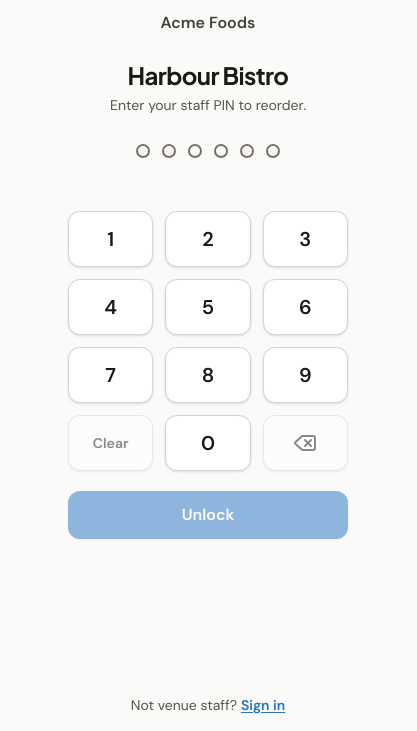
Test: QrEntryScreen — the PIN › says to ask a manager when the code is locked for good
The width and height of the screenshot is (417, 731).
Expected: the heading "Harbour Bistro" is shown, [128,59,288,91]
Step 1. Click the button "1" → (111, 239), box [68,211,153,267]
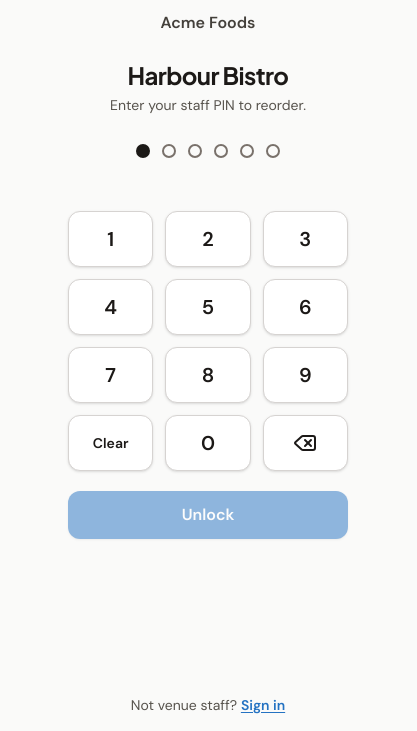
Step 2. Click the button "3" → (305, 239), box [263,211,348,267]
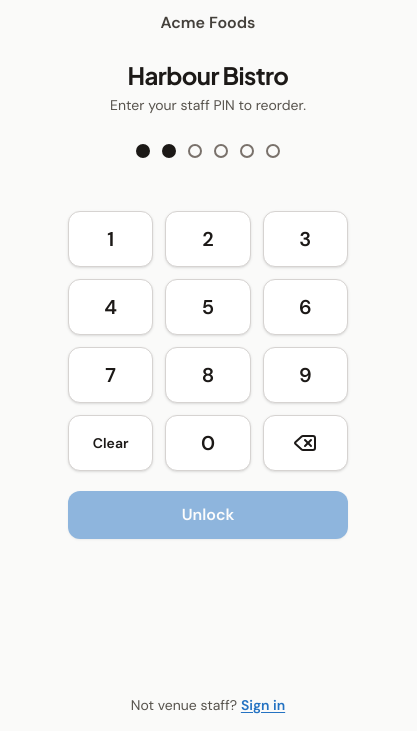
Step 3. Click the button "5" → (208, 307), box [165,279,251,335]
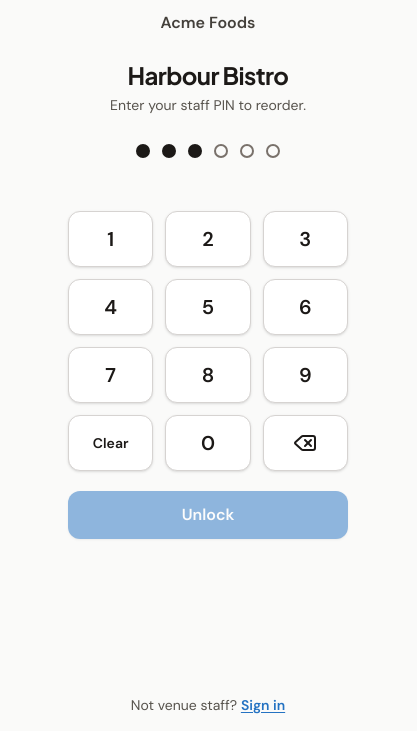
Step 4. Click the button "7" → (111, 375), box [68,347,153,403]
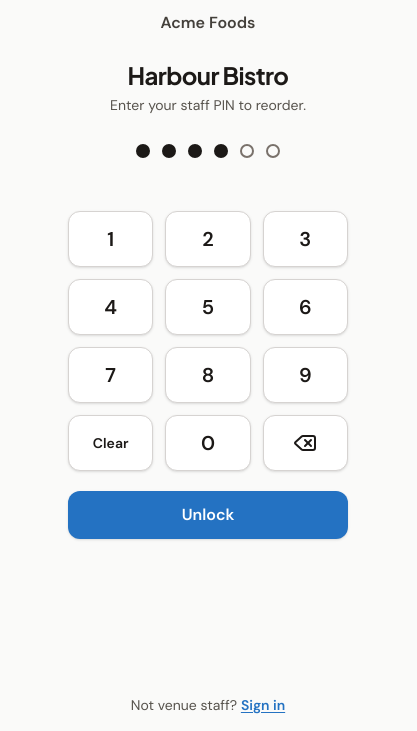
Step 5. Click the button "Unlock" → (208, 515), box [68,491,348,539]
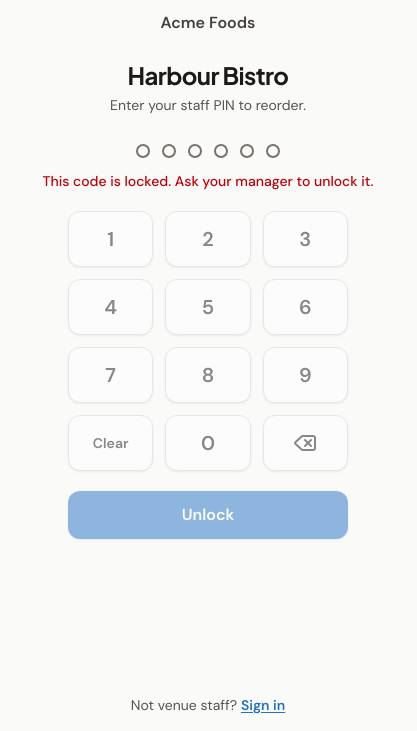
Now the text "This code is locked. Ask your manager to unlock it." is shown, box [16,171,400,195]
